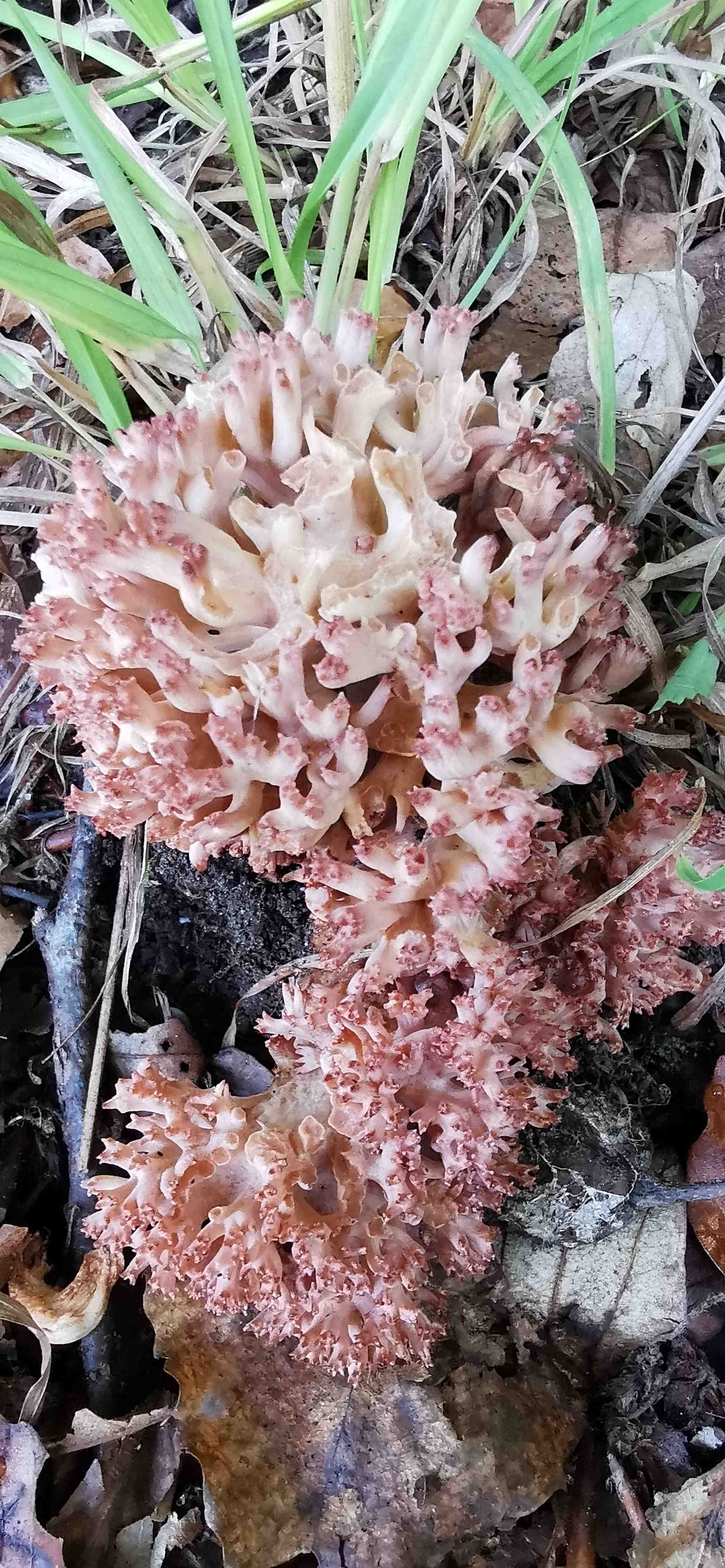coral: (16, 299, 725, 1382)
